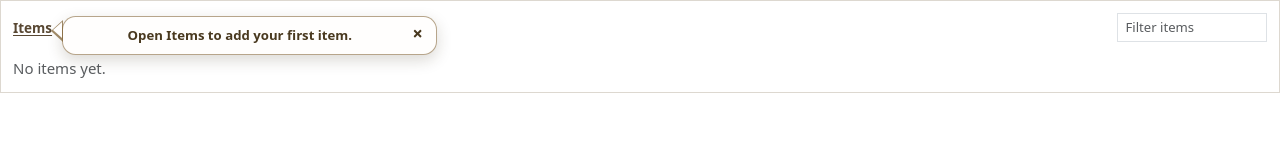
Scenario: anchors the dismissible first-item hint to the Items heading for an empty owned stash
Expected: the text "No items yet." is shown, top-left (13, 58), bottom-right (106, 78)
Expected: the text "Open Items to add your first item." is shown, top-left (128, 26), bottom-right (352, 44)
Click the button named "Dismiss hint" at (417, 34), box top-left (410, 26), bottom-right (425, 42)
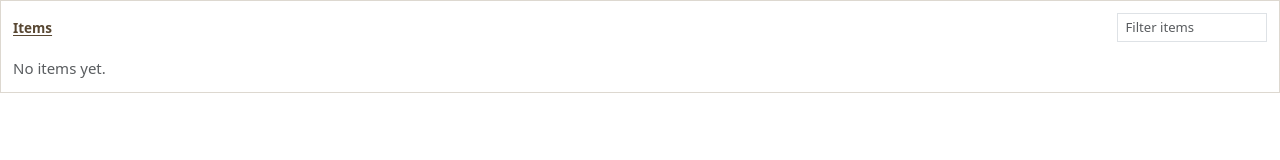
Now the text "Open Items to add your first item." is gone
